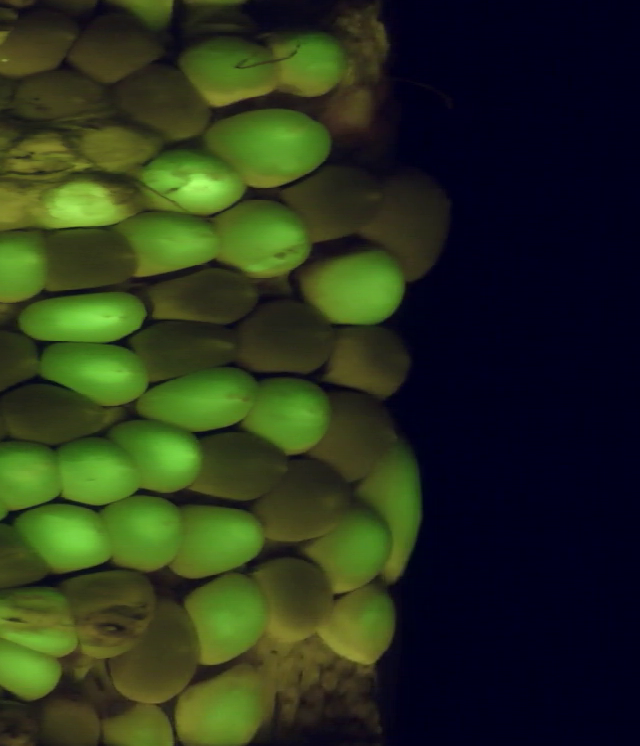fluorescent: (195, 103, 340, 195), (351, 432, 430, 589), (295, 498, 398, 601), (176, 568, 277, 673), (295, 241, 408, 330), (206, 194, 317, 282), (134, 360, 265, 434), (104, 418, 215, 500), (167, 659, 271, 746), (36, 333, 153, 410), (175, 30, 285, 111), (236, 370, 335, 460), (137, 143, 254, 219), (15, 286, 155, 349), (5, 499, 122, 574), (165, 499, 270, 582), (116, 208, 229, 282), (315, 582, 406, 671), (95, 493, 187, 576), (29, 169, 145, 233), (52, 433, 146, 510), (263, 19, 353, 99), (0, 581, 85, 664), (0, 627, 68, 708), (0, 435, 66, 514), (0, 226, 53, 309), (97, 699, 182, 746)
nonfluorescent: (358, 159, 462, 289), (106, 593, 208, 709), (250, 454, 359, 546), (275, 159, 390, 246), (304, 383, 401, 486), (105, 59, 215, 148), (62, 567, 161, 661), (136, 263, 265, 331), (62, 9, 170, 90), (246, 552, 336, 649), (185, 428, 295, 507), (125, 316, 244, 389), (232, 297, 340, 376), (34, 222, 143, 297), (0, 379, 115, 449), (324, 323, 420, 399), (0, 8, 84, 80), (2, 68, 107, 121), (76, 116, 168, 173), (35, 691, 112, 746), (0, 324, 45, 400), (0, 176, 50, 240)
